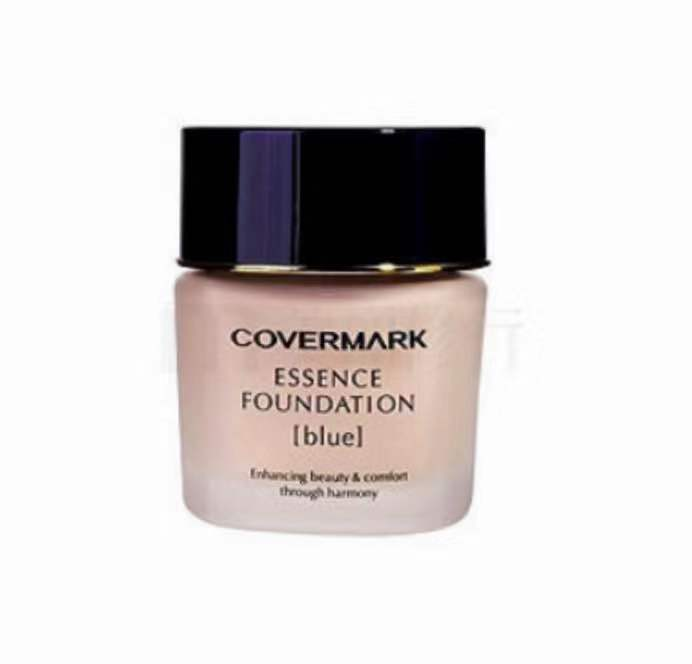cosmetic: (173, 127, 491, 530)
